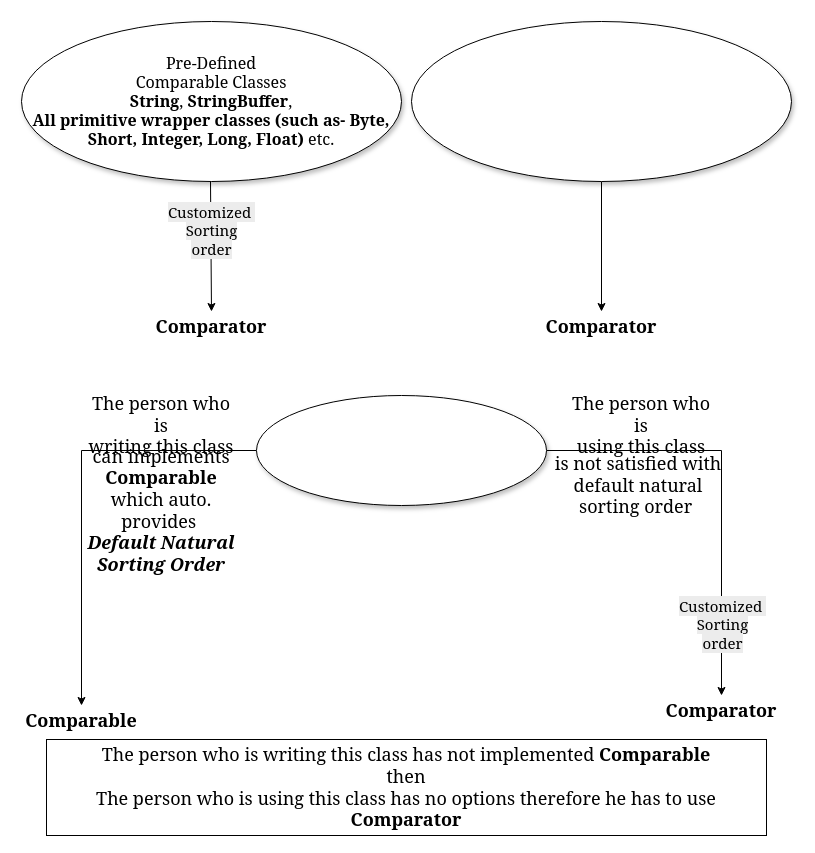
Some shapes in this 815 by 853 pixel diagram are drawn without their labels. The shapes that lost their labels are listed below. From the top down, each one's centre as x and y in pixels, then its label:
At [602,102]: "Pre-Defined Non-Comparable Classes Random , Thread etc.".
At [402,451]: "Our Own Classes ( Employee , Student , Product etc.)".
